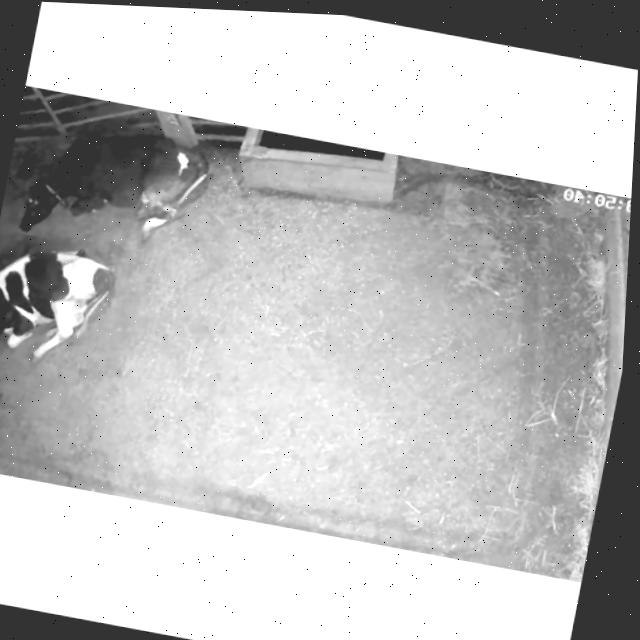lay: (0, 101, 227, 272), (0, 228, 128, 416)
